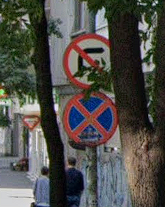oprirea_interzisa: (60, 88, 118, 146)
